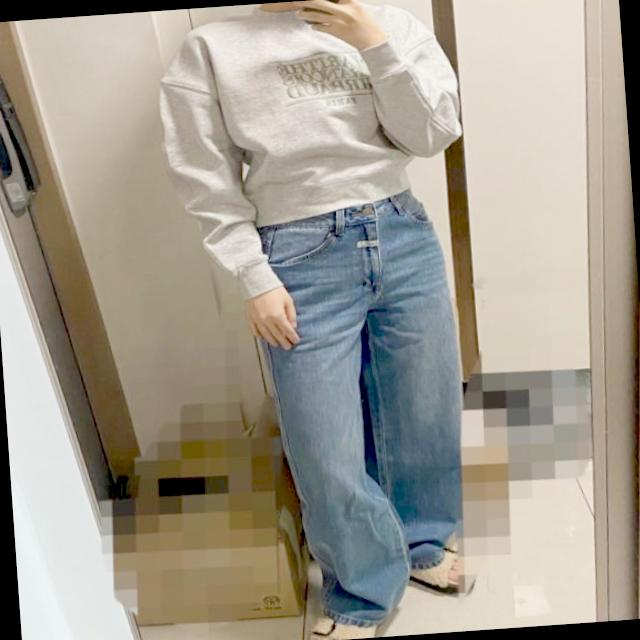denimpants: (256, 189, 484, 640)
mtm: (146, 0, 474, 307)
